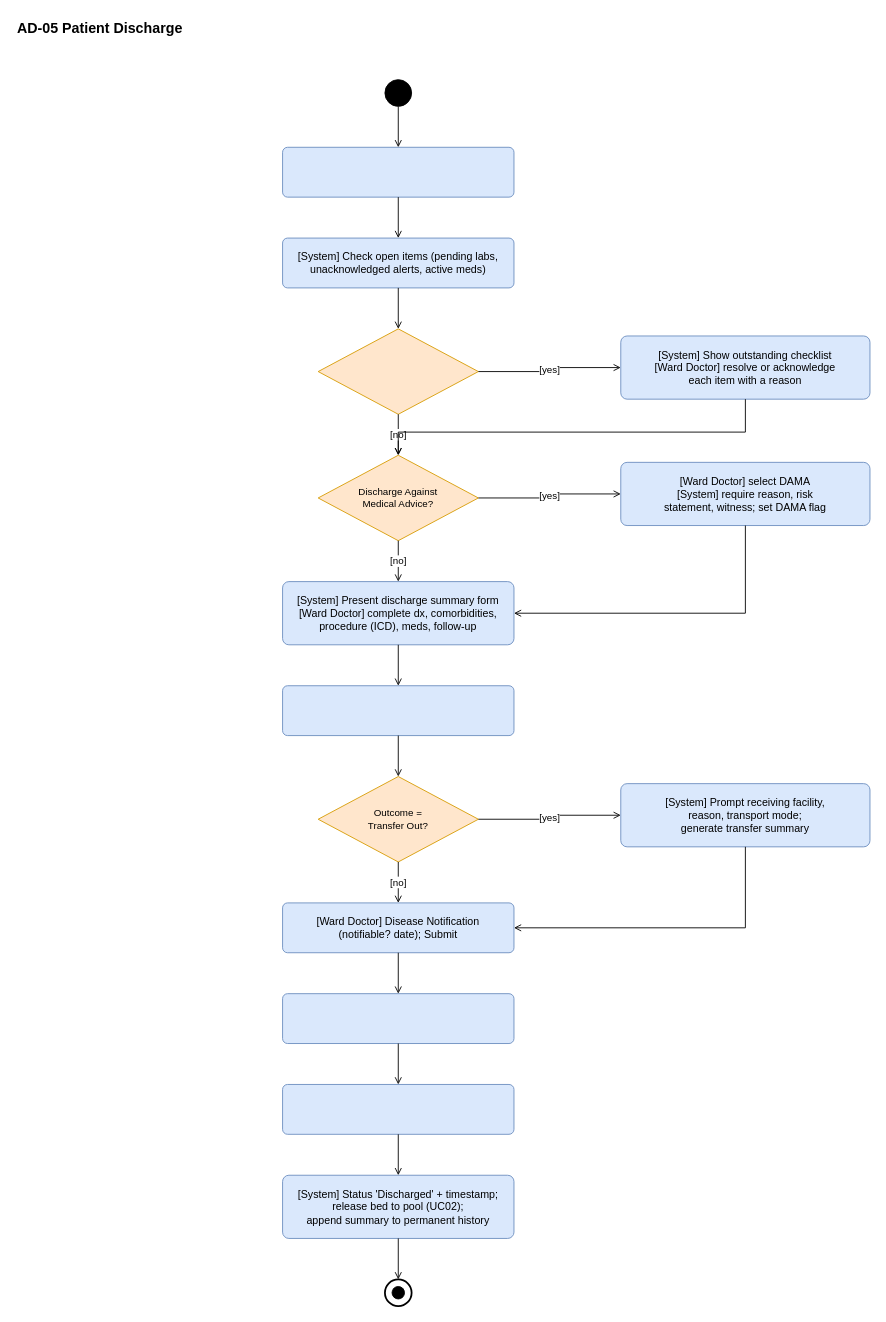
Image size: 886x1322. Some labels were removed from this diagram. Each missing label, with the centre of its shape:
"[Nurse] Confirm physical discharge (patient has left the ward)" belongs at point 398,1109.
"[System] Notify duty nurse (P2) to prepare patient" belongs at point 398,1018.
"[Ward Doctor] Open record; select 'Initiate Discharge'" belongs at point 398,171.
"[Ward Doctor] Select patient outcome (Section D categories)" belongs at point 398,710.
"Open items exist?" belongs at point 397,371.
